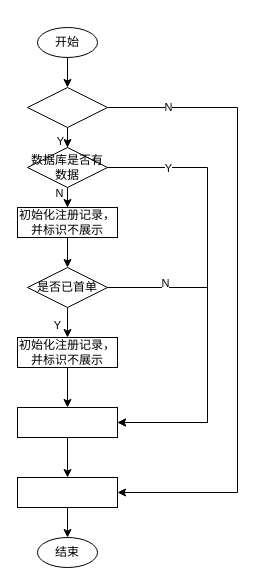
The diagram is 263 pixels wide and 585 high, and some of its shapes have lost their labels. Each missing label, with the centre of its shape:
"是否企业用户" belongs at point 67,107.
"查询数据库记录" belongs at point 67,422.
"组装数据" belongs at point 67,492.
